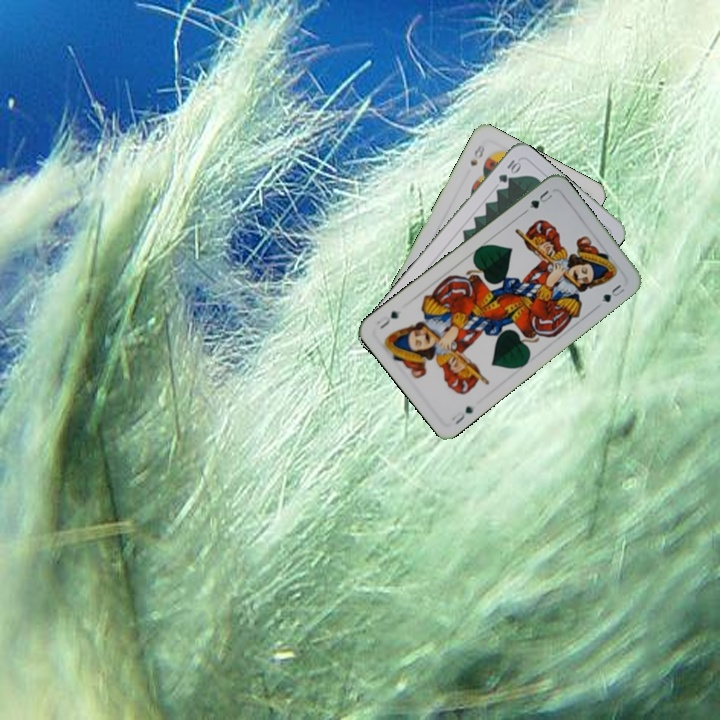G10: (494, 156, 523, 185)
GU: (525, 186, 556, 211), (447, 402, 476, 427)
S8: (466, 140, 487, 168)
